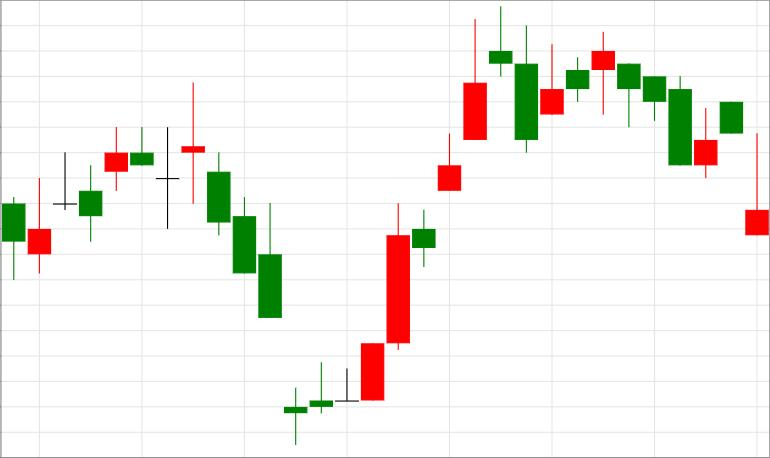evening_star_fall: (284, 5, 538, 445)
